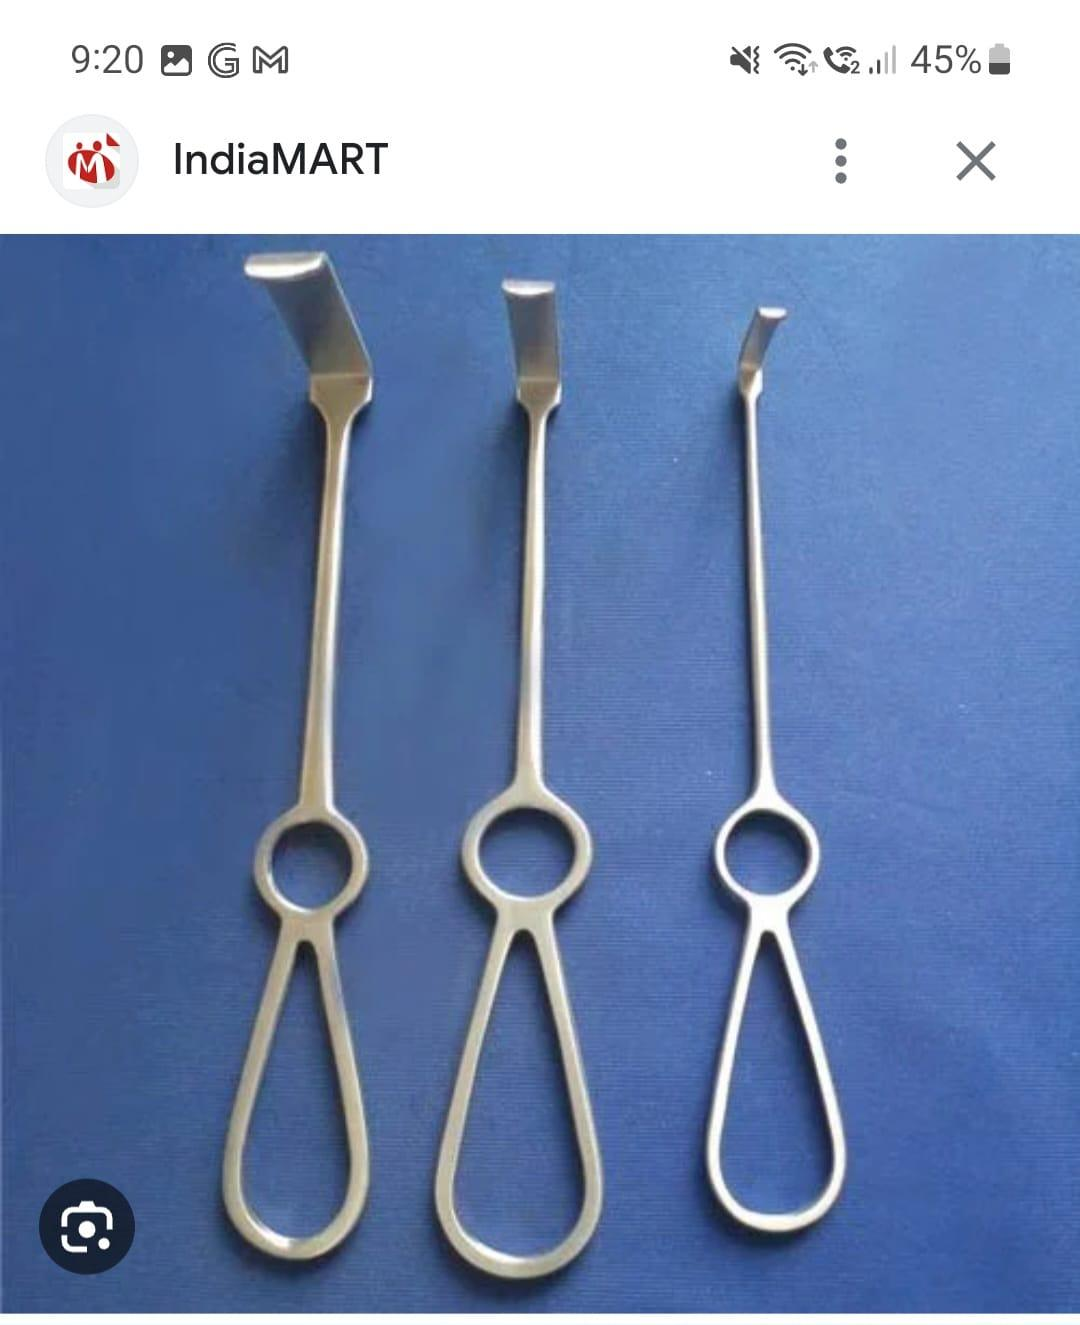Langenbach Retractor: (432, 262, 618, 1280), (220, 242, 378, 1272)
